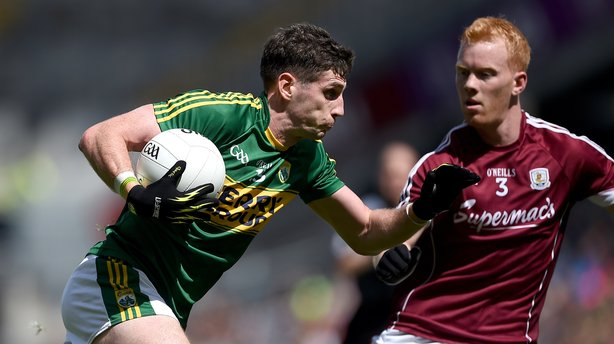ball: (134, 120, 229, 209)
player: (112, 16, 344, 313), (410, 16, 570, 328)
